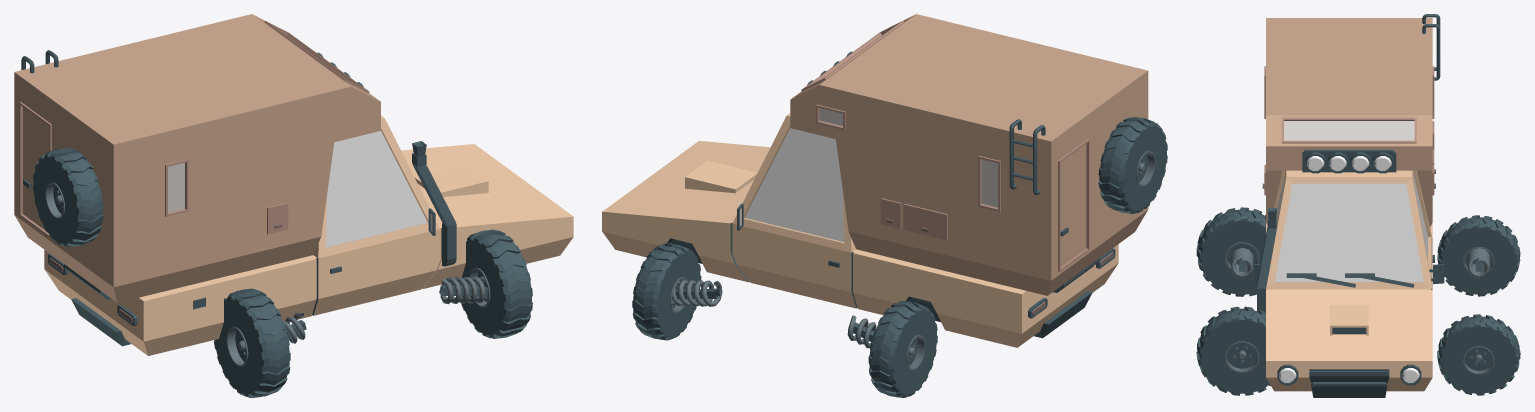
File: Truck.fbx
3 views of the same model, side by side, from view 1: azimuth 30°, elevation 25°; view 2: azimuth 150°, elevation 25°; view 3: azimuth 270°, elevation 25° (orthographic). The views are drawn at different scales.
Visible parts, largest first — view 1: Frame, Rear_wheel, Rear_wheel.001, Spring.003, Spring.001; view 2: Frame, Front_wheel, Front_wheel.001, Spring.002, Spring; view 3: Frame, Front_wheel.001, Rear_wheel.001, Front_wheel, Rear_wheel, Spring, Spring.001.
Boxes of the visible parts, bbox=[...] form: Frame: bbox=[14, 14, 573, 355]; Rear_wheel: bbox=[213, 288, 290, 397]; Rear_wheel.001: bbox=[461, 229, 532, 338]; Spring.003: bbox=[439, 276, 488, 304]; Spring.001: bbox=[282, 313, 306, 343]; Frame: bbox=[602, 14, 1167, 347]; Front_wheel: bbox=[868, 301, 937, 397]; Front_wheel.001: bbox=[632, 243, 701, 340]; Spring.002: bbox=[671, 280, 722, 306]; Spring: bbox=[847, 315, 876, 348]; Frame: bbox=[1254, 14, 1444, 397]; Front_wheel.001: bbox=[1437, 314, 1520, 395]; Rear_wheel.001: bbox=[1196, 306, 1270, 395]; Front_wheel: bbox=[1437, 215, 1520, 296]; Rear_wheel: bbox=[1196, 207, 1265, 296]; Spring: bbox=[1467, 248, 1489, 278]; Spring.001: bbox=[1231, 247, 1253, 278].
Size of what is drawn, in the model's own units: 575 by 310 by 389.
